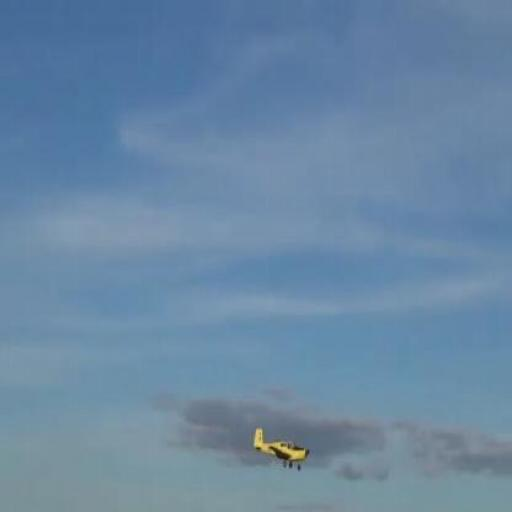aircraft: (253, 427, 310, 471)
